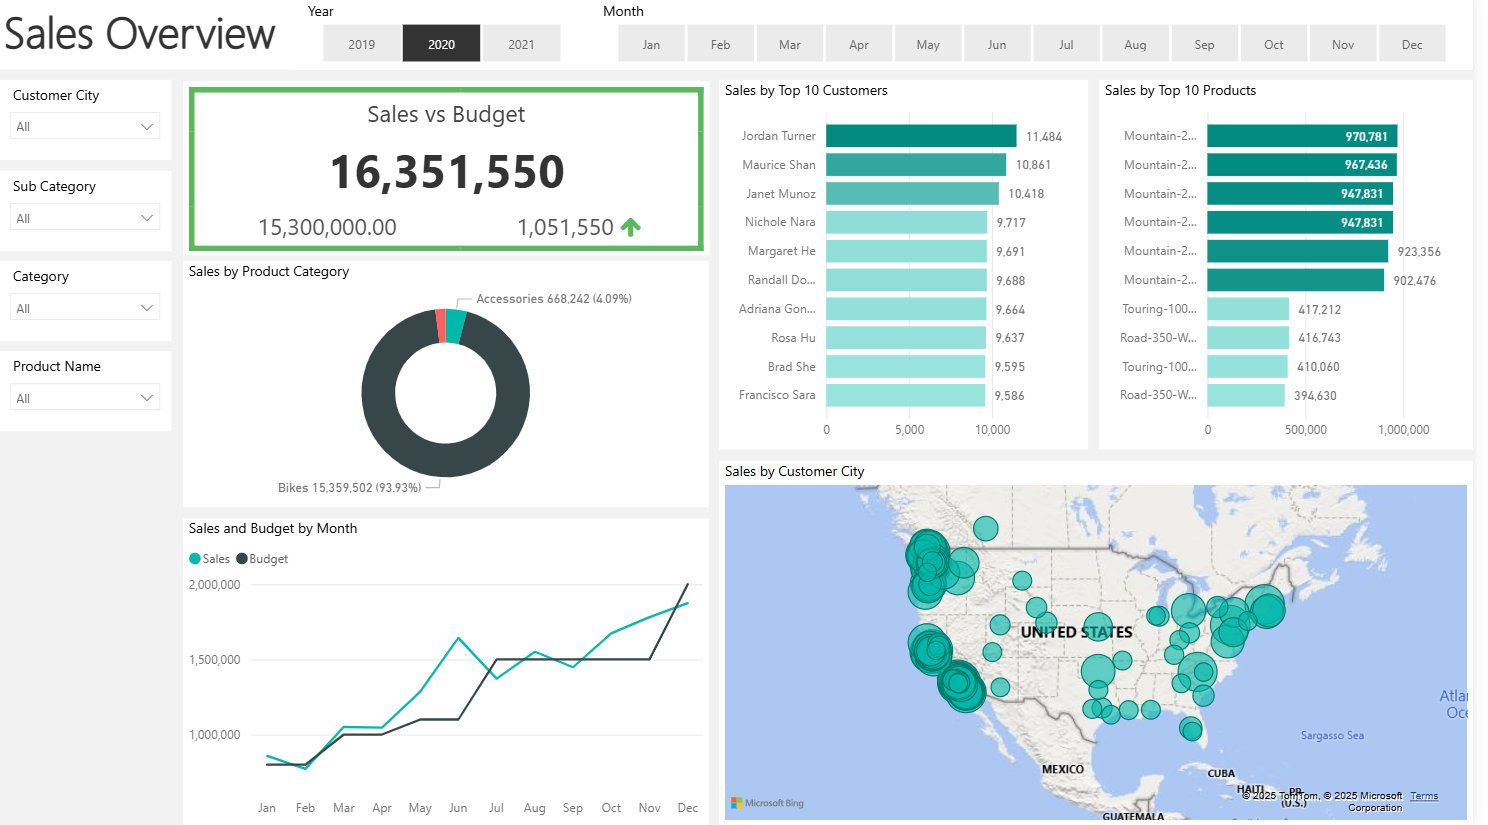

The dashboard page shown, as its layout file describes it:
{"tool":"powerbi","page":{"name":"Sales Overview","canvas":[1280,720],"ordinal":0},"visuals":[{"type":"textbox","box":[0,0,1280,64],"z":0},{"type":"slicer","fields":{"Values":["DIM_Calendar.Year"]},"box":[256,0,256,64],"z":1000},{"type":"slicer","fields":{"Values":["DIM_Calendar.MonthShort"]},"box":[512,0,768,64],"z":2000},{"type":"slicer","fields":{"Values":["DIM_Customers.Customer City"]},"box":[0,73,150.5,69.3],"z":3000},{"type":"slicer","fields":{"Values":["DIM_Products.Product Category"]},"box":[0,229.9,150.5,69.3],"z":4000},{"type":"slicer","fields":{"Values":["DIM_Products.Product Name"]},"box":[0,308.4,150.5,69.3],"z":5000},{"type":"slicer","fields":{"Values":["DIM_Products.Sub Category"]},"box":[0,151.4,150.5,69.3],"z":6000},{"type":"barChart","title":"Sales by Top 10 Products","fields":{"Category":["DIM_Products.Product Name"],"Y":["Analysis Metrics.Sales"]},"box":[955.2,73,324.8,321.1],"z":7000},{"type":"lineChart","fields":{"Category":["DIM_Calendar.MonthShort"],"Y":["Analysis Metrics.Sales","Analysis Metrics.Budget"]},"box":[160.7,452.8,456.3,267.2],"z":8000},{"type":"barChart","title":"Sales by Top 10 Customers","fields":{"Category":["DIM_Customers.Full Name"],"Y":["Analysis Metrics.Sales"]},"box":[625.9,73,320.2,321.1],"z":9000},{"type":"donutChart","fields":{"Y":["Analysis Metrics.Sales"],"Series":["DIM_Products.Product Category"]},"box":[160.6,229.9,456.2,213.5],"z":10000},{"type":"map","fields":{"Category":["DIM_Customers.Customer City"],"Size":["Analysis Metrics.Sales"]},"box":[625.9,403.2,654.1,316.6],"z":12000},{"type":"BBED0A4D4D8D44CE93CF2DAFADEE466C","fields":{"actual":["Analysis Metrics.Sales"],"target2":["Analysis Metrics.Sales / Budget"],"target1":["Analysis Metrics.Budget"]},"box":[160.5,73.3,456.6,151.3],"z":13001}]}

Visuals, with their boxes in screenshot pixels (x1, y1, x2, y2), scaled from the page's 1280x720 canvas onto the 1488x825 screenshot:
textbox: left=0, top=0, right=1487, bottom=73
slicer - DIM_Calendar.Year: left=298, top=0, right=595, bottom=73
slicer - DIM_Calendar.MonthShort: left=595, top=0, right=1487, bottom=73
slicer - DIM_Customers.Customer City: left=0, top=84, right=175, bottom=163
slicer - DIM_Products.Product Category: left=0, top=263, right=175, bottom=343
slicer - DIM_Products.Product Name: left=0, top=353, right=175, bottom=433
slicer - DIM_Products.Sub Category: left=0, top=173, right=175, bottom=253
"Sales by Top 10 Products" barChart: left=1110, top=84, right=1487, bottom=452
lineChart - DIM_Calendar.MonthShort x Analysis Metrics.Sales: left=187, top=519, right=717, bottom=824
"Sales by Top 10 Customers" barChart: left=728, top=84, right=1100, bottom=452
donutChart - Analysis Metrics.Sales x DIM_Products.Product Category: left=187, top=263, right=717, bottom=508
map - DIM_Customers.Customer City x Analysis Metrics.Sales: left=728, top=462, right=1487, bottom=824
BBED0A4D4D8D44CE93CF2DAFADEE466C - Analysis Metrics.Sales x Analysis Metrics.Sales / Budget: left=187, top=84, right=717, bottom=257
